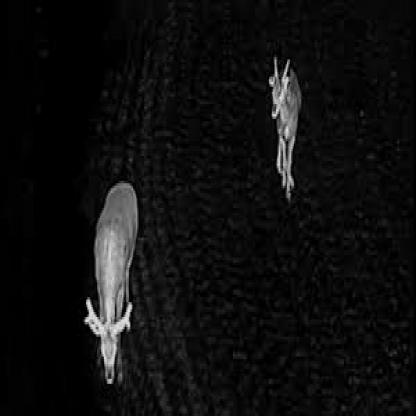rehkitze: (82, 173, 140, 386), (267, 53, 301, 198)
